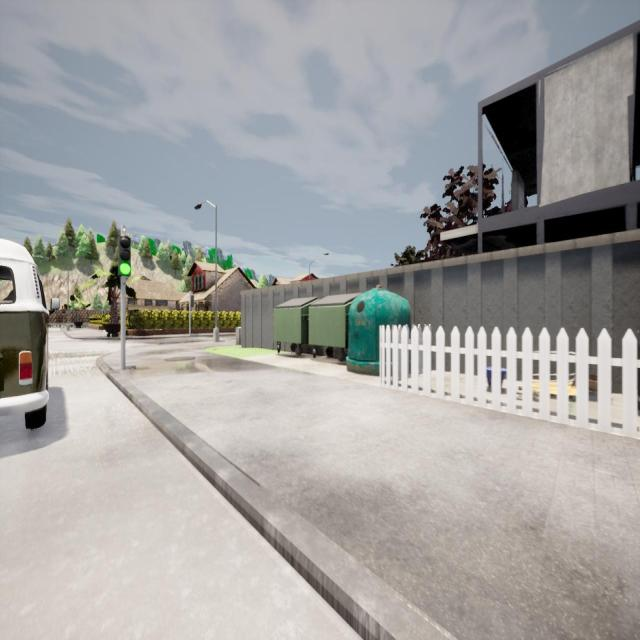Vehicle: (0, 238, 60, 429)
traffic_light: (118, 236, 132, 277), (191, 295, 194, 307), (62, 306, 65, 313)
